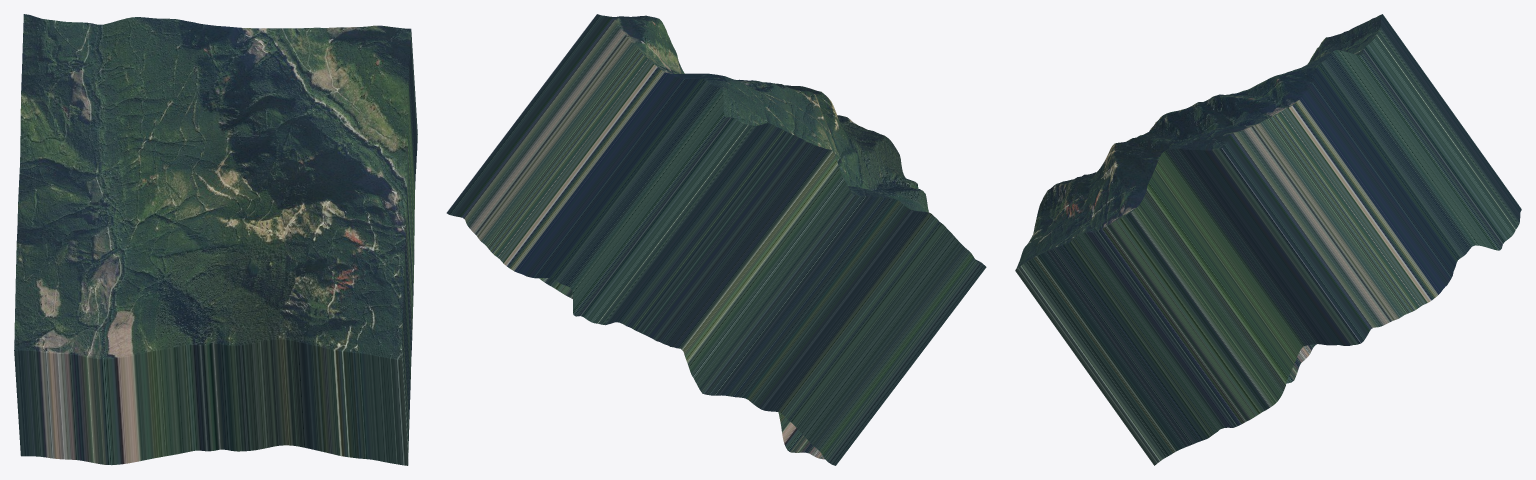
3 views of the same model, side by side, from view 1: azimuth 30°, elevation 25°; view 2: azimuth 150°, elevation 25°; view 3: azimuth 270°, elevation 25° (orthographic). The views are drawn at different scales.
Size of the model in its own units: 6208 by 4891 by 6337.
Materials: 1 (1 with a texture image).
